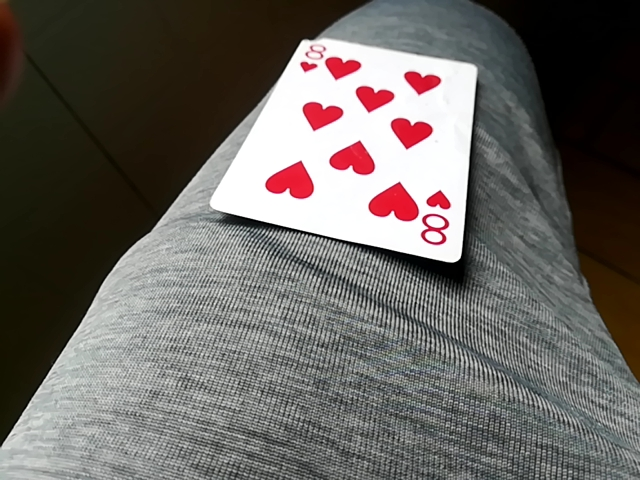hx 8: (206, 36, 481, 263)
